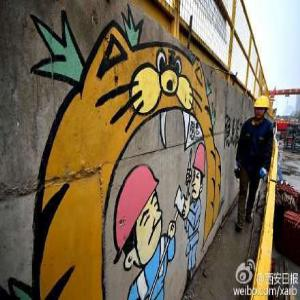yellow: (253, 95, 271, 122)
